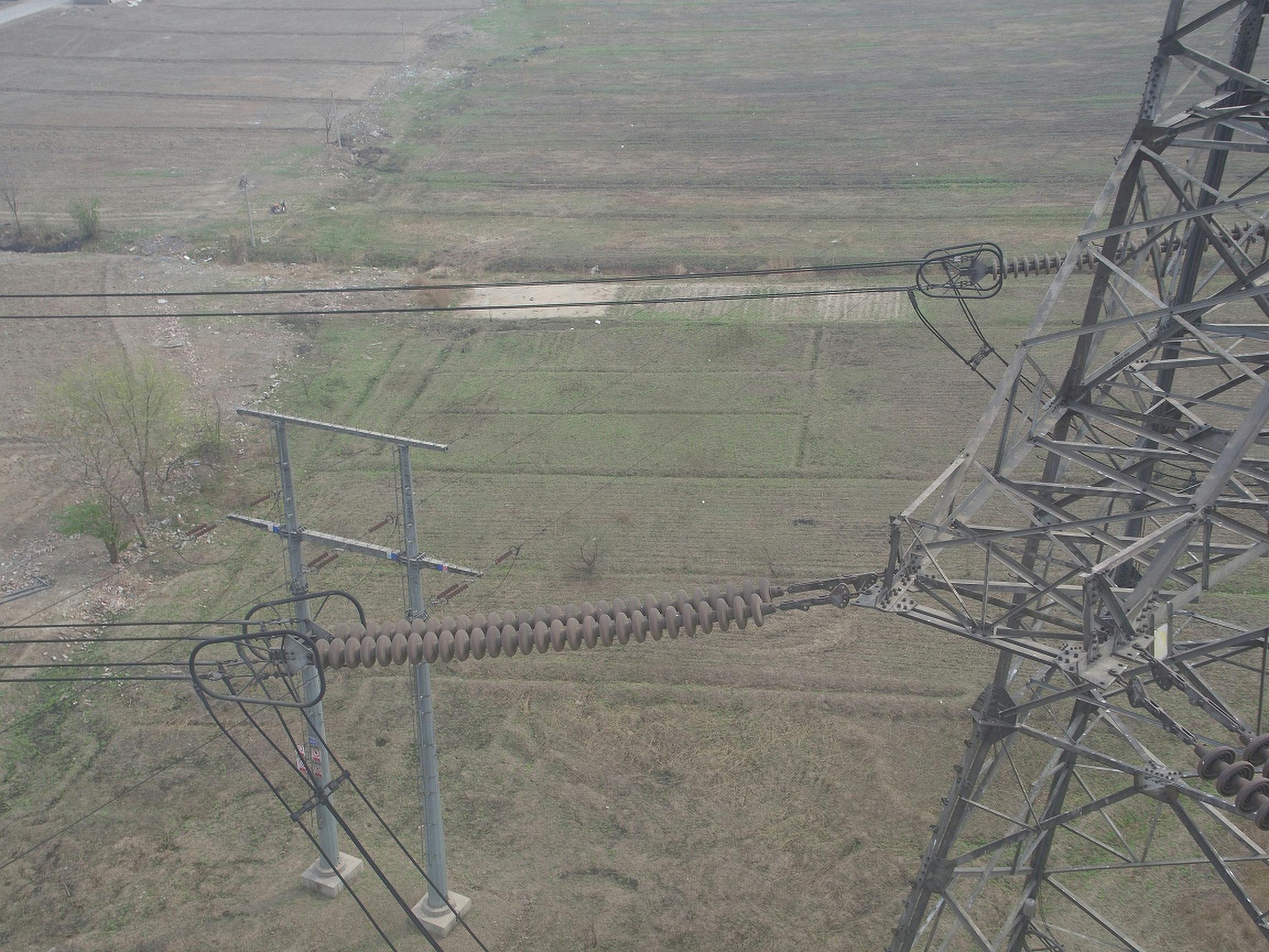insulator: (308, 574, 774, 674), (986, 218, 1260, 283), (1192, 727, 1269, 834)
